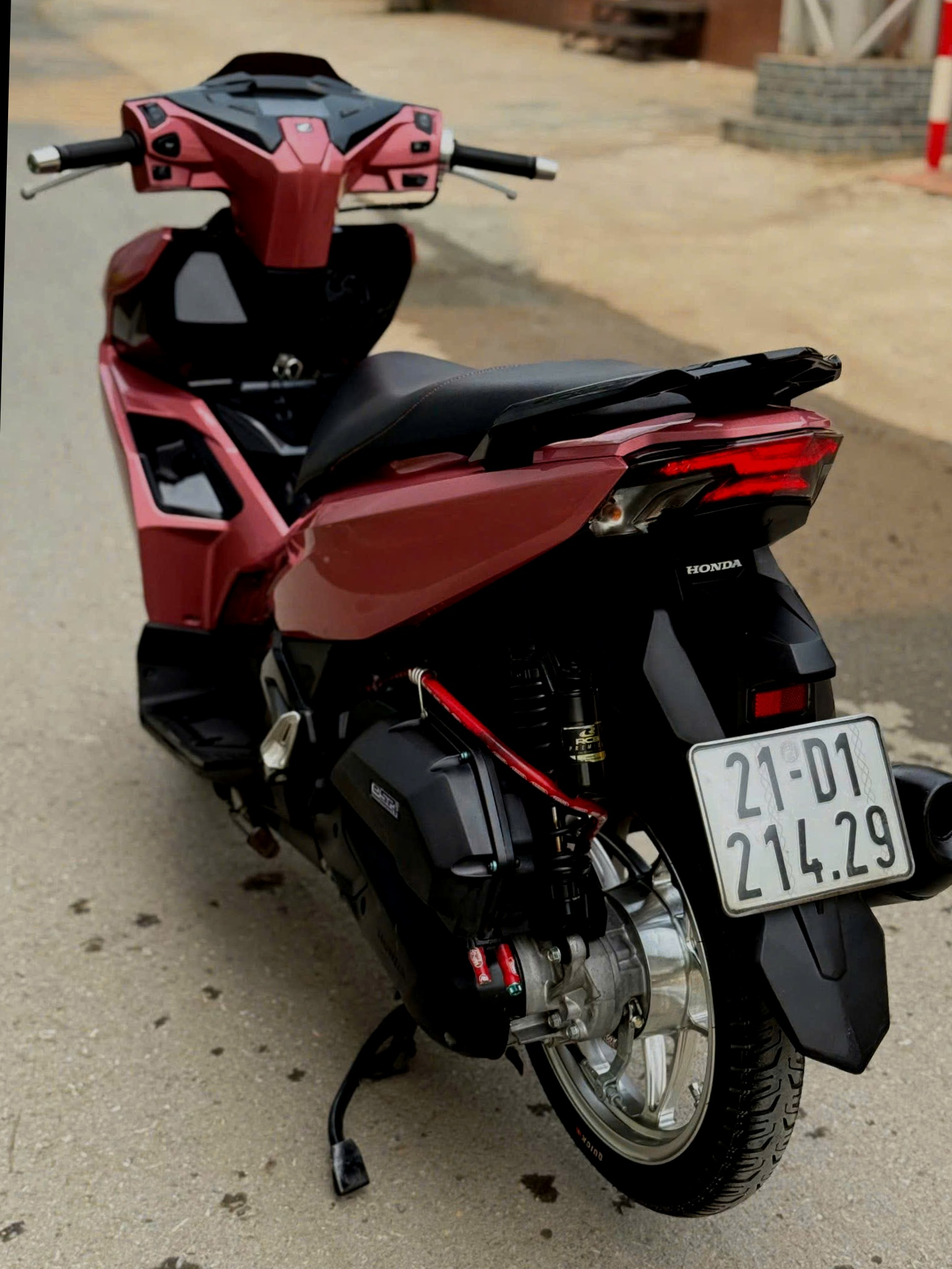Bien-so: (676, 730, 912, 947)
